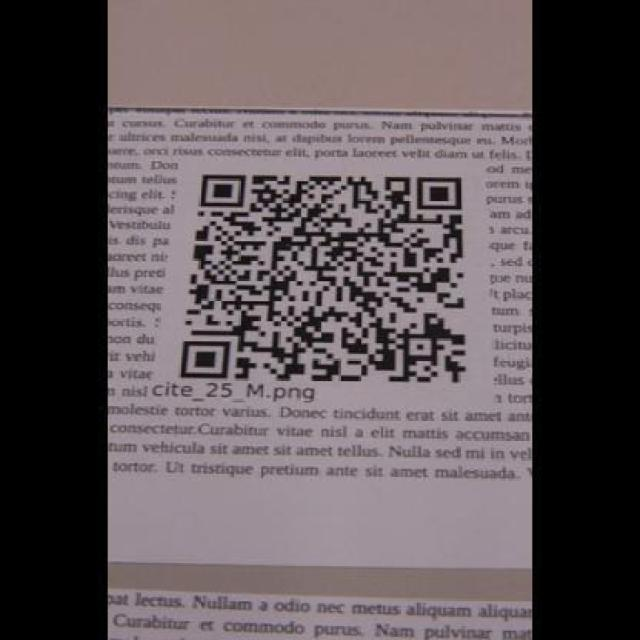QRCode: (171, 165, 478, 388)
